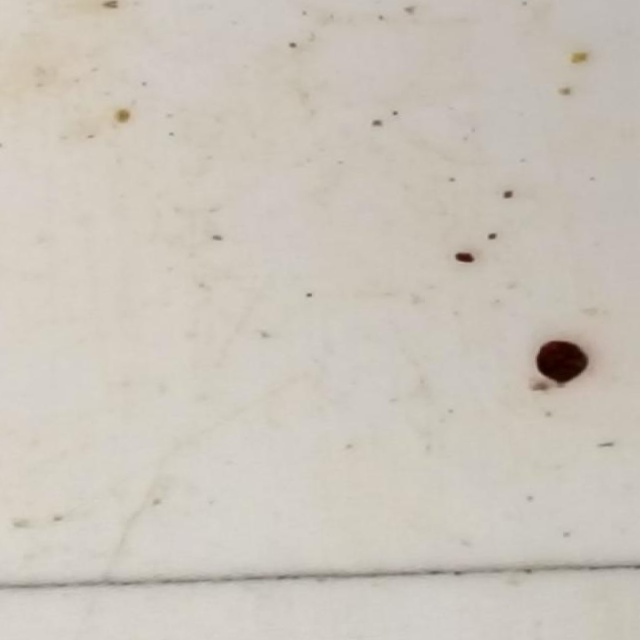varroa: (534, 337, 588, 385)
